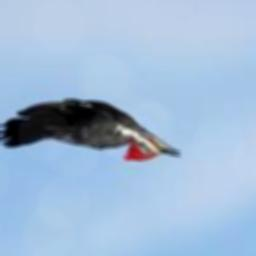Woodpecker: (0, 101, 180, 162)
